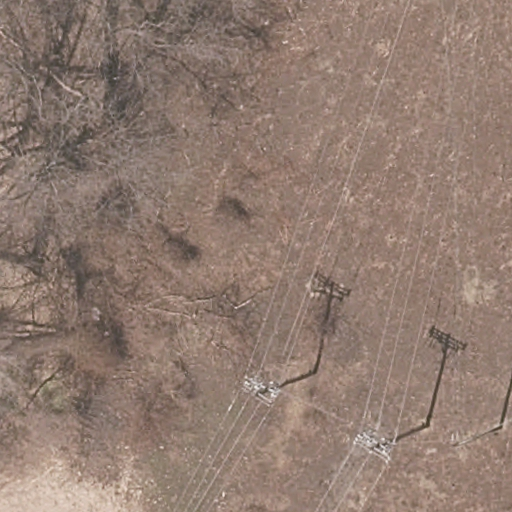DT: (236, 369, 281, 409), (355, 427, 397, 464)
